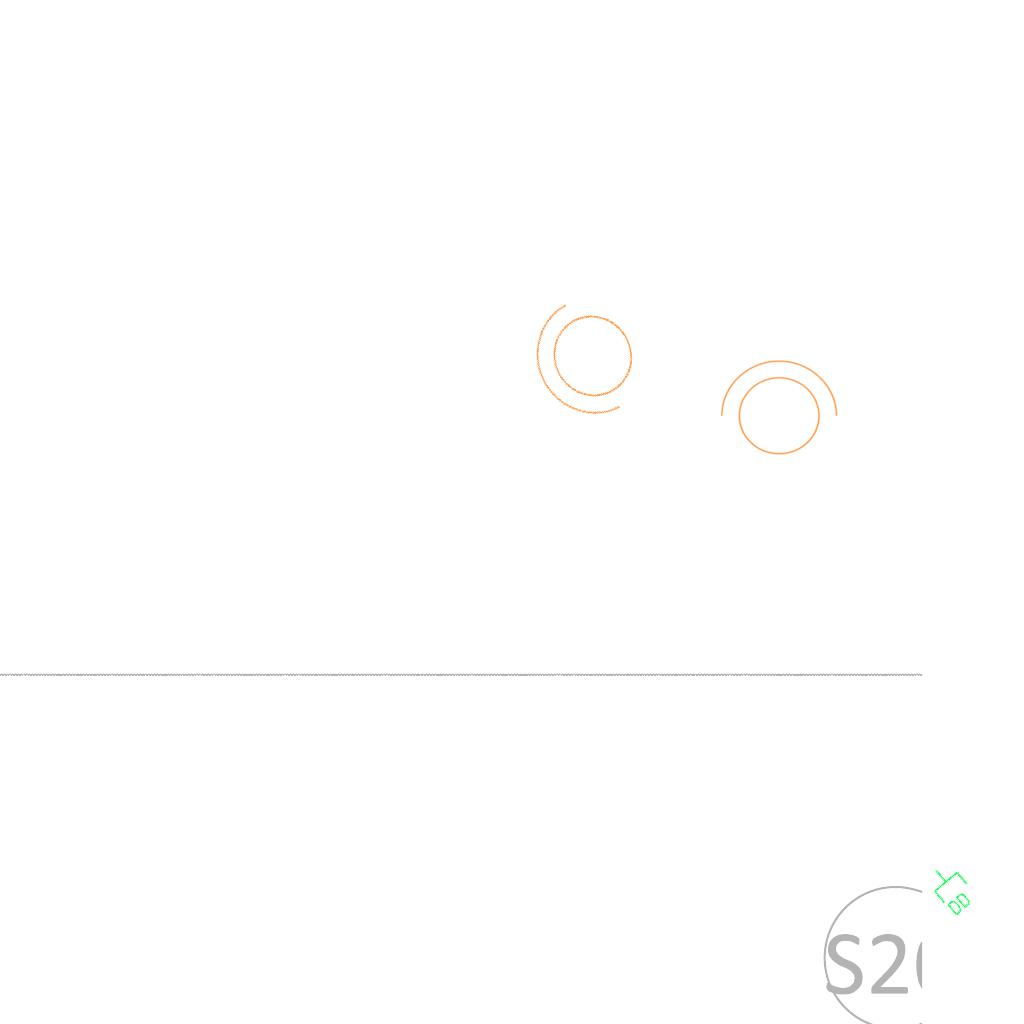Datenanschluss_zweifach: (922, 858, 981, 920)
Scheinwerfer_fuer_Alarmbeleuchtung: (509, 276, 671, 446), (710, 355, 842, 467)
